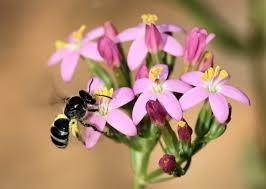Lasioglossum: (44, 75, 110, 151)
